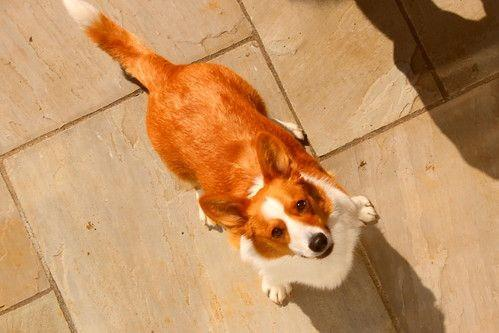adult_dog: (69, 3, 379, 302)
